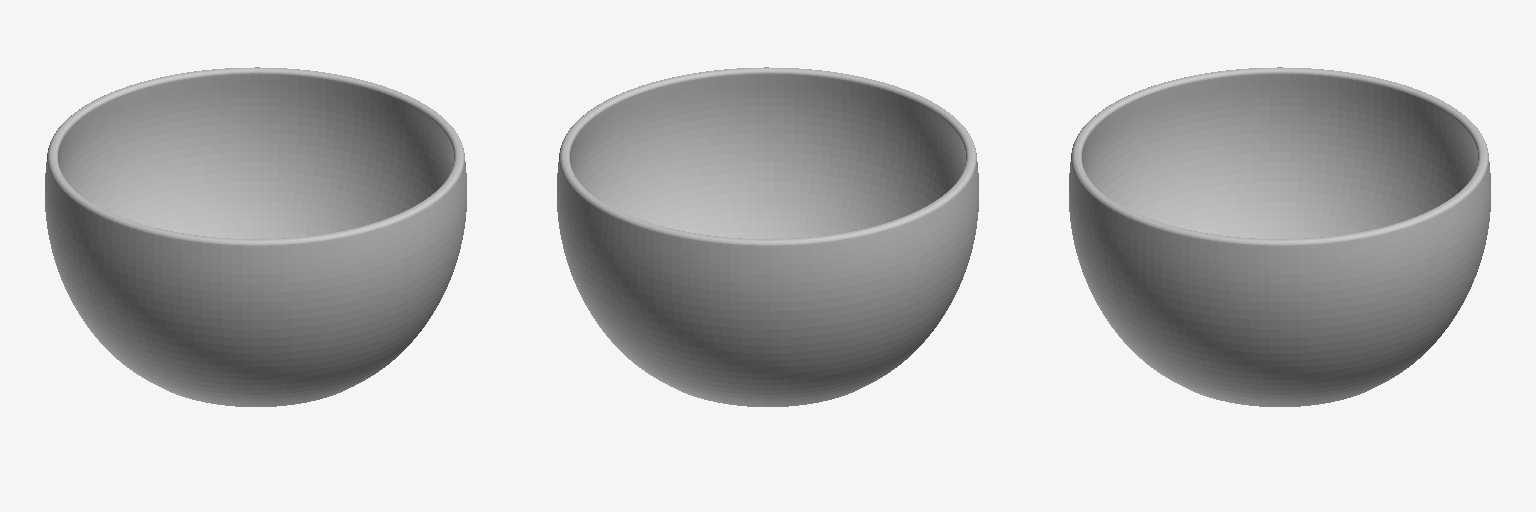
The model's file is Bowl.obj.
The picture shows the model from 3 angles: view 1: azimuth 30°, elevation 25°; view 2: azimuth 150°, elevation 25°; view 3: azimuth 270°, elevation 25°; orthographic projection.
Parts seen in each view (by area): view 1: Bowl; view 2: Bowl; view 3: Bowl.
Boxes of the visible parts, box(x1,y1,x2,y2) form: Bowl: box(45, 67, 466, 406); Bowl: box(557, 67, 978, 406); Bowl: box(1069, 67, 1490, 406).
Size of the model in its own units: 2.08 by 1.11 by 2.08.